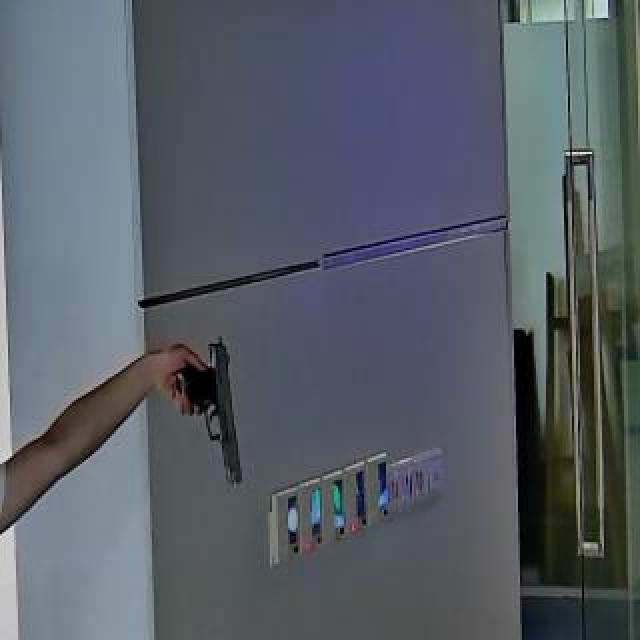Guns: (162, 319, 248, 497)
